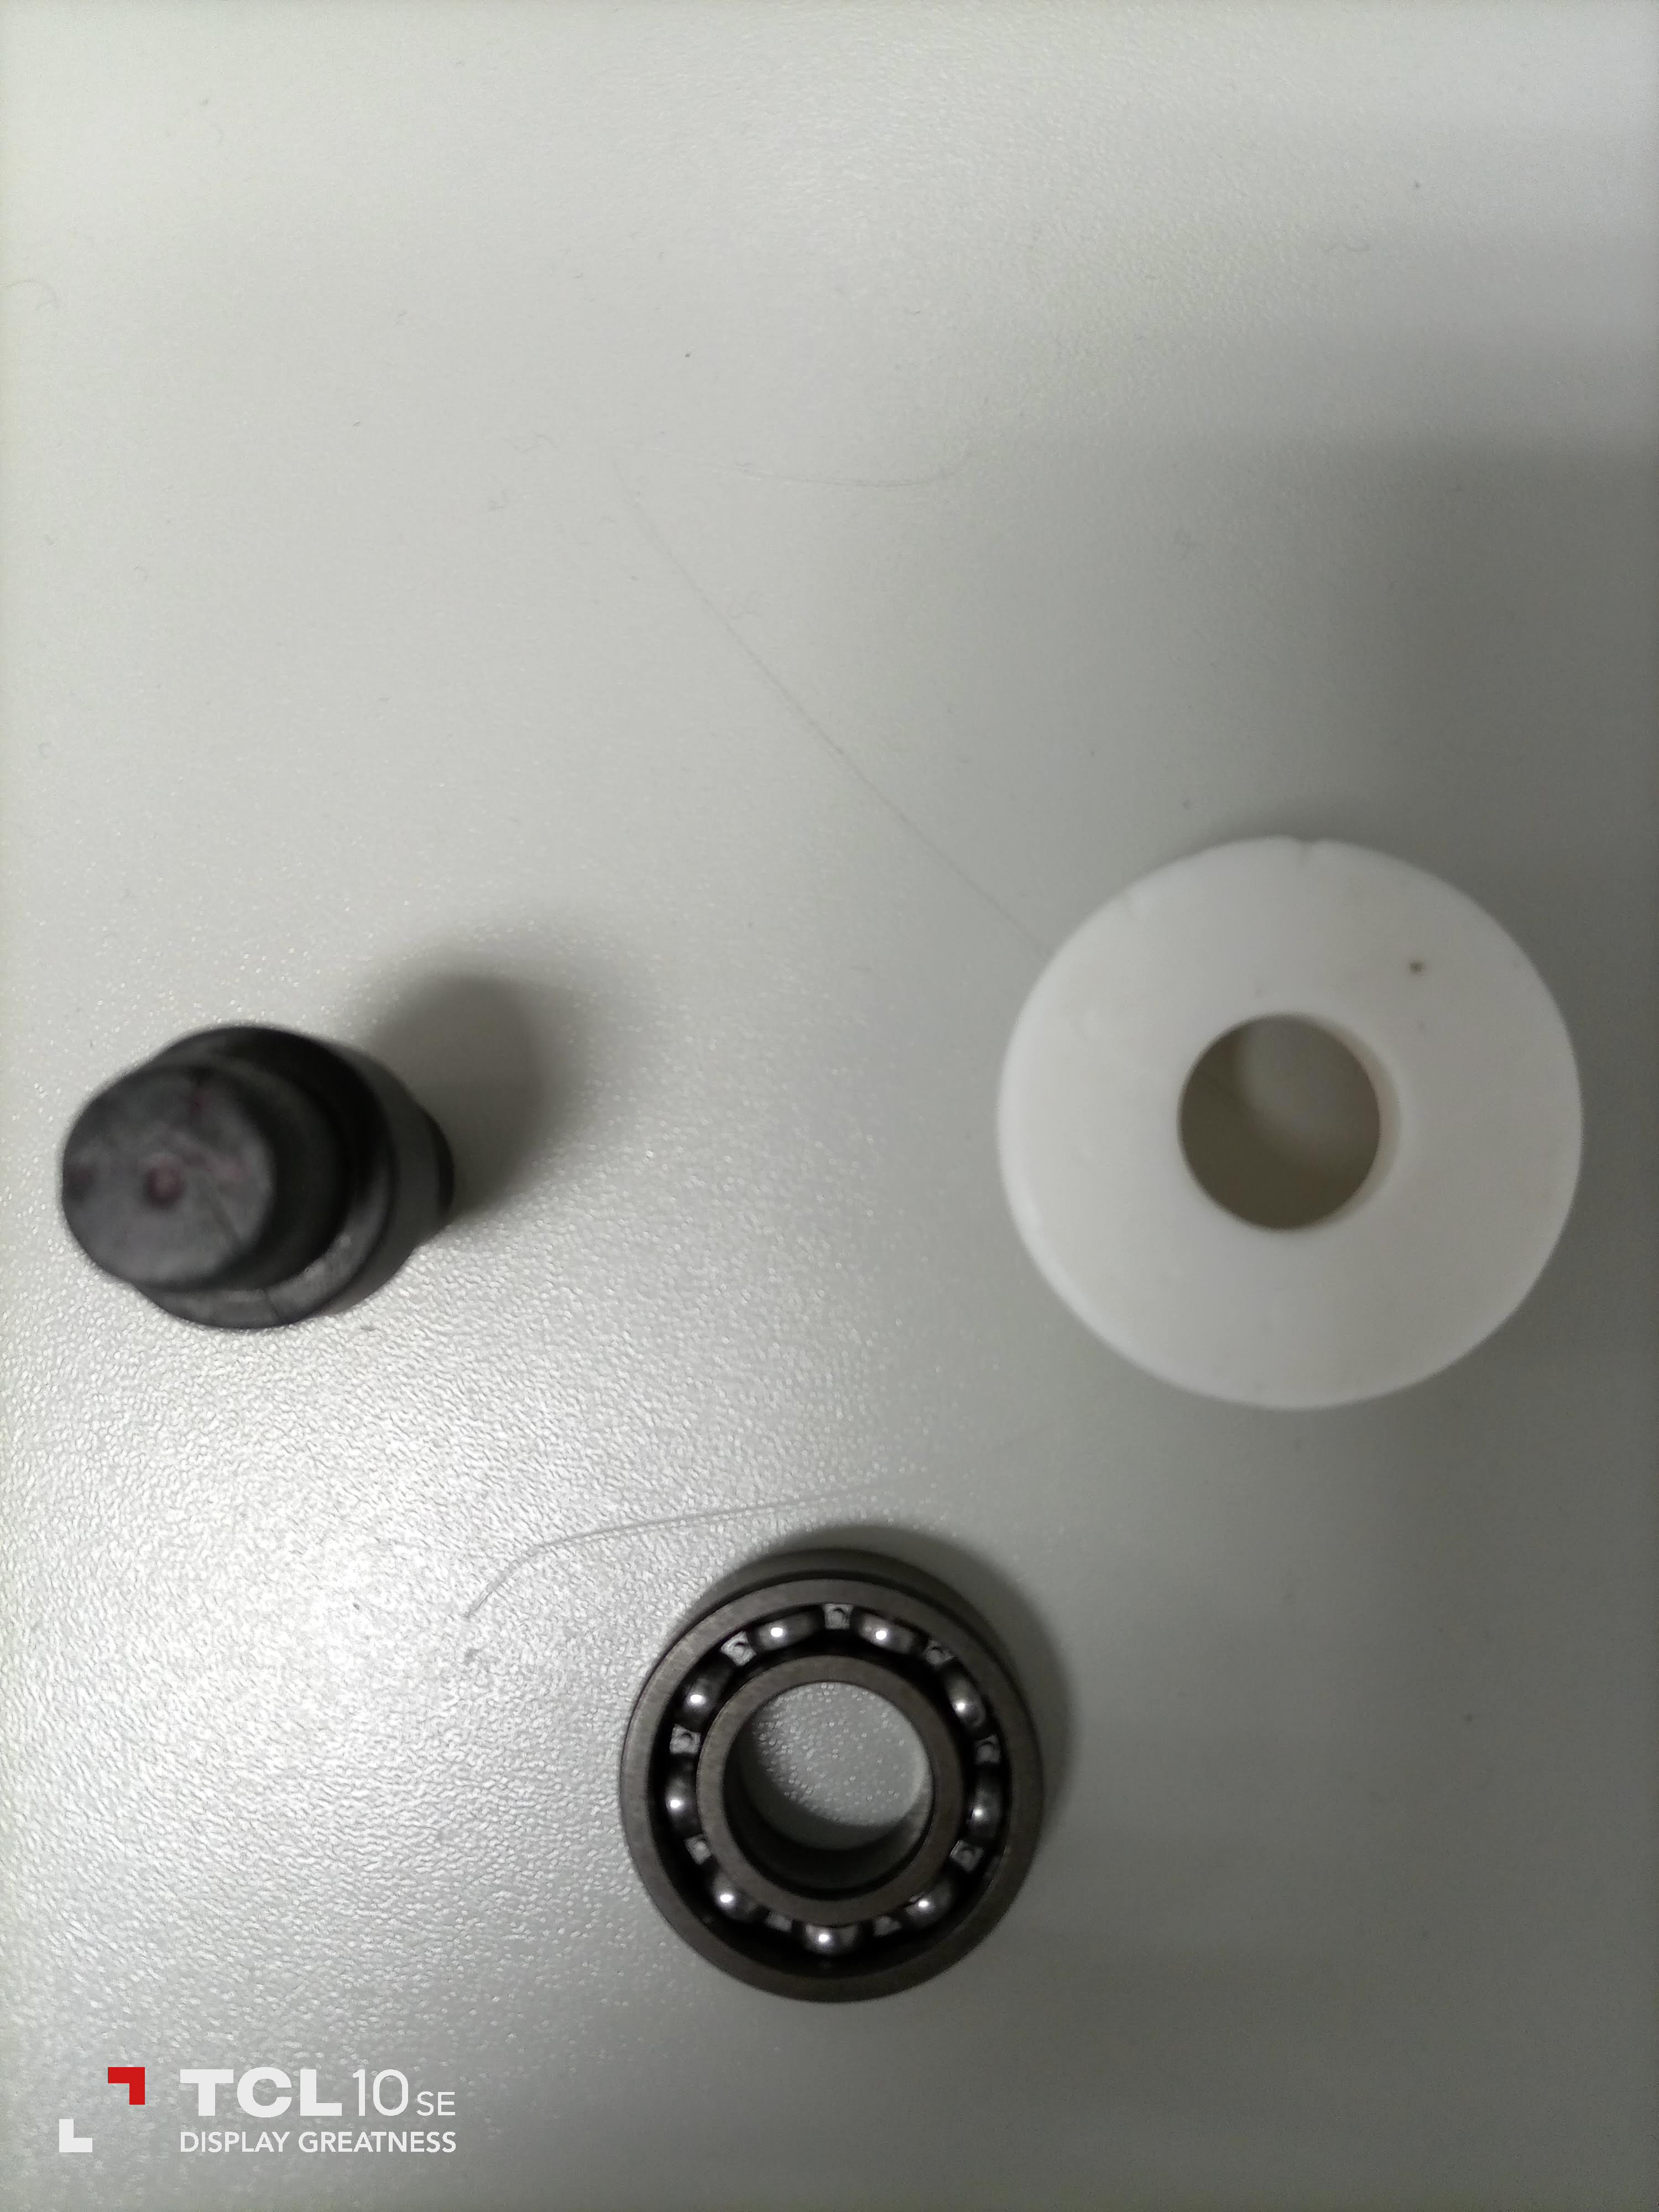Ardatza: (47, 998, 460, 1353)
Roda: (605, 1548, 1073, 1998)
Tapa: (985, 829, 1603, 1430)
